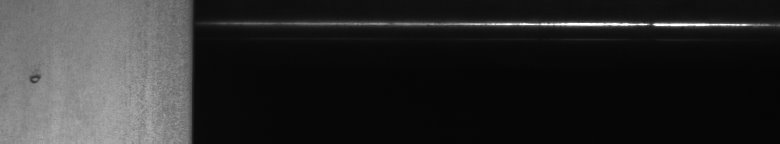fi: (28, 72, 44, 88)
